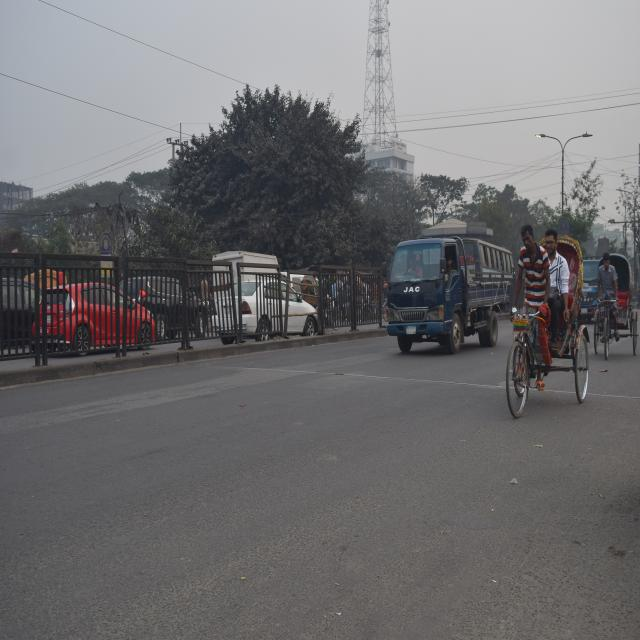car: (27, 277, 163, 352), (210, 280, 329, 337), (119, 270, 208, 337)
microbus: (1, 273, 40, 357)
pickup-van: (379, 216, 513, 357), (211, 244, 286, 310)
